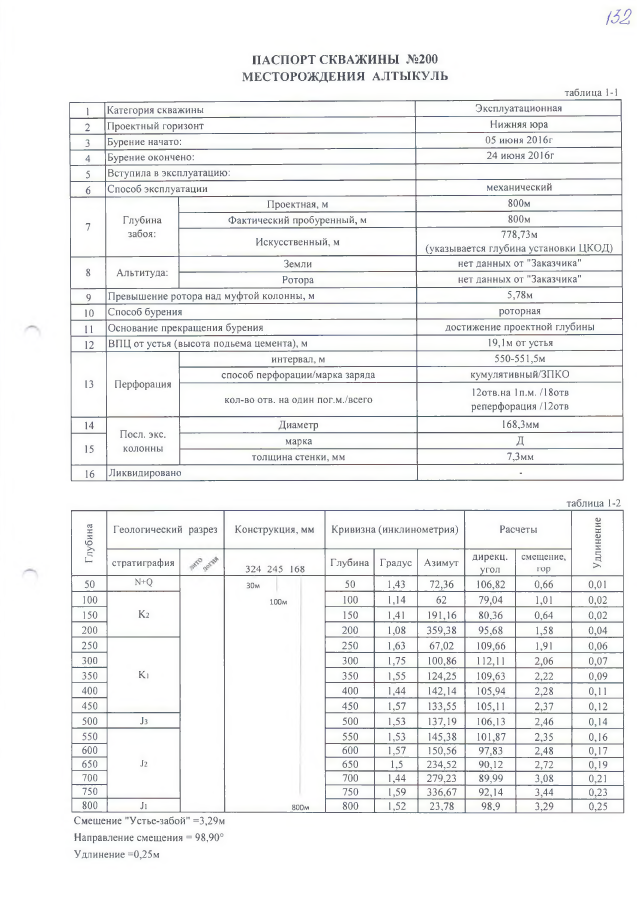Bordered: (70, 101, 620, 482), (69, 510, 626, 815)
